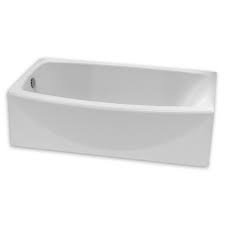bathub: (3, 55, 225, 172)
